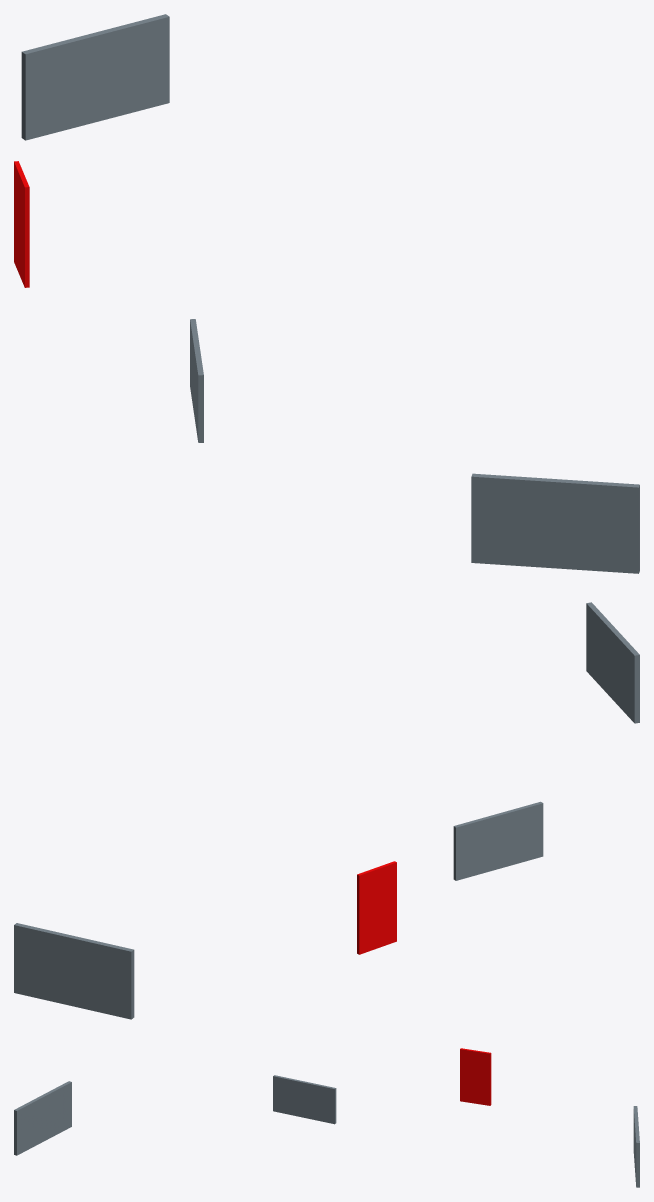
The model's file is charging.glb.
3 renders of one model, top to bottom at view 1: azimuth 30°, elevation 25°; view 2: azimuth 150°, elevation 25°; view 3: azimuth 270°, elevation 25°, orthographic. The views are drawn at different scales.
Visible parts, largest first — view 1: Charging.008, Charging.011, Charging.010, Charging.009; view 2: Charging.011, Charging.009, Charging.008, Charging.010; view 3: Charging.008, Charging.009, Charging.010, Charging.011.
Part boxes in pixels (x1,y1,x2,y2): Charging.008: (471, 473, 639, 573); Charging.011: (21, 14, 169, 140); Charging.010: (14, 161, 29, 287); Charging.009: (190, 319, 203, 442); Charging.011: (14, 923, 134, 1019); Charging.009: (453, 801, 543, 880); Charging.008: (586, 602, 639, 723); Charging.010: (357, 861, 396, 954); Charging.008: (14, 1081, 71, 1155); Charging.009: (273, 1075, 336, 1124); Charging.010: (460, 1048, 491, 1105); Charging.011: (633, 1106, 639, 1187).
Bounding box in the file's own units: 5.79 × 2.12 × 18.9.
